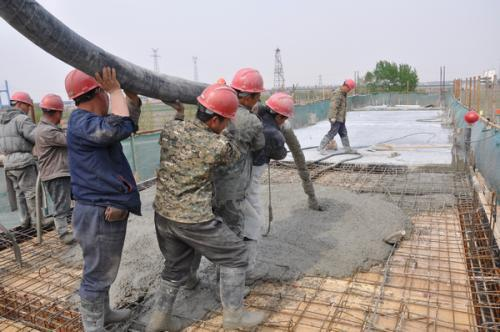helmet: (194, 80, 238, 134), (226, 64, 267, 111), (67, 70, 105, 118), (264, 91, 297, 125), (38, 92, 66, 125), (7, 89, 35, 119), (340, 76, 357, 95)
